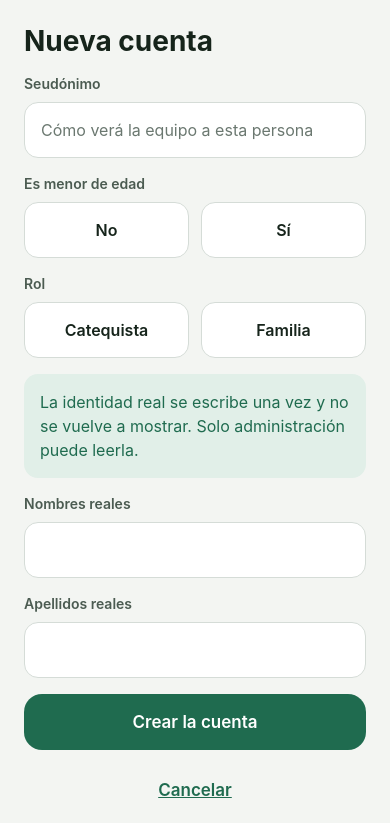
Test: RF-105: el alta exige seudónimo si la persona es menor
Type "Ana Pérez" into the field named "Seudónimo" at (195, 130), box [24, 102, 366, 158]
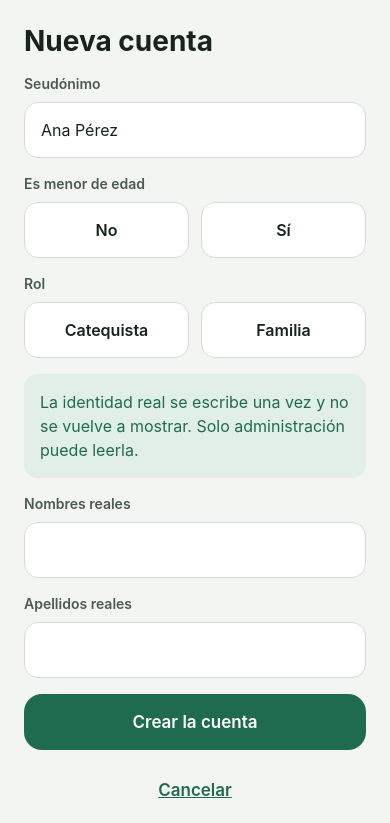
Click the radio button "Sí" at (284, 230), box [201, 202, 366, 258]
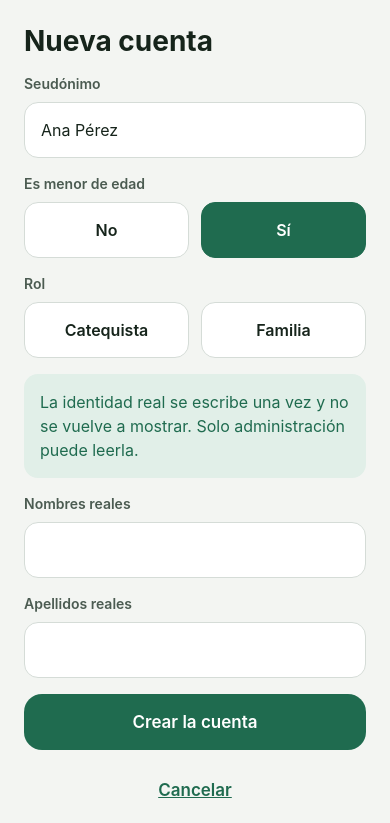
Click the radio button "Catequista" at (106, 330), box [24, 302, 189, 358]
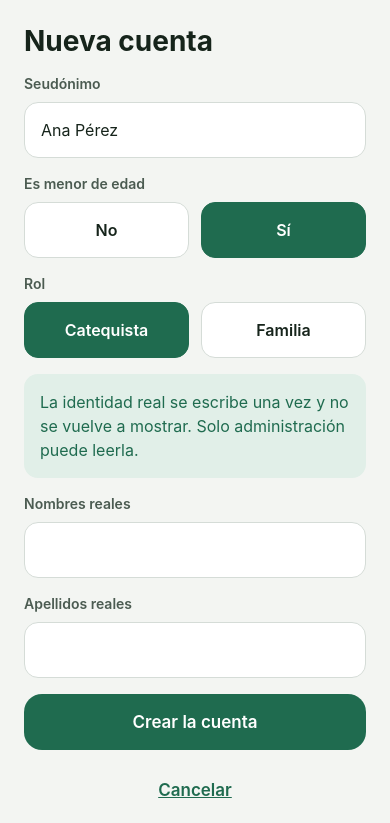
Type "Ana" into the field named "Nombres reales" at (195, 550), box [24, 522, 366, 578]
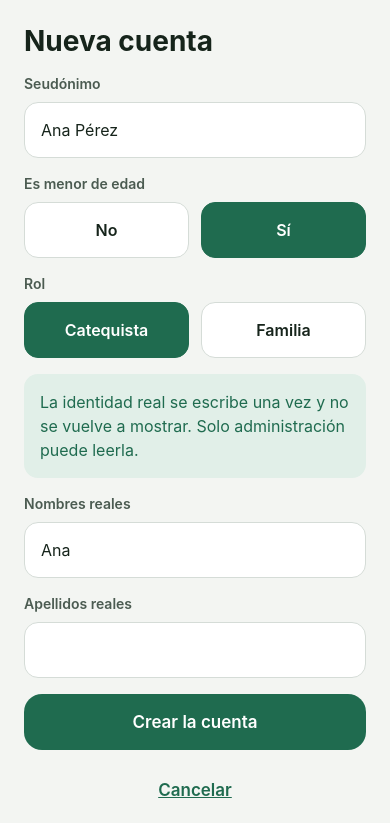
Type "Pérez" into the field named "Apellidos reales" at (195, 650), box [24, 622, 366, 678]
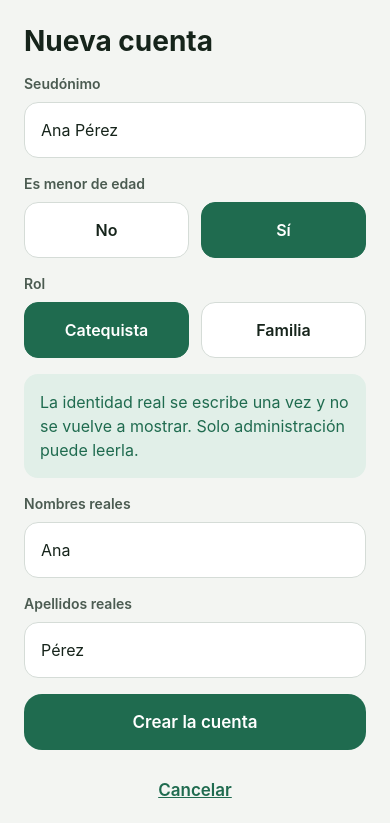
Click the button "Crear la cuenta" at (195, 722), box [24, 694, 366, 750]
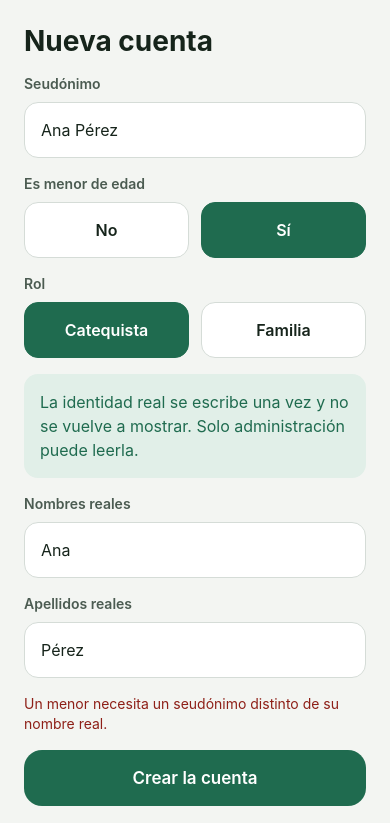
Now the text "Un menor necesita un seudónimo distinto de su nombre real." is shown, box [24, 694, 366, 734]
